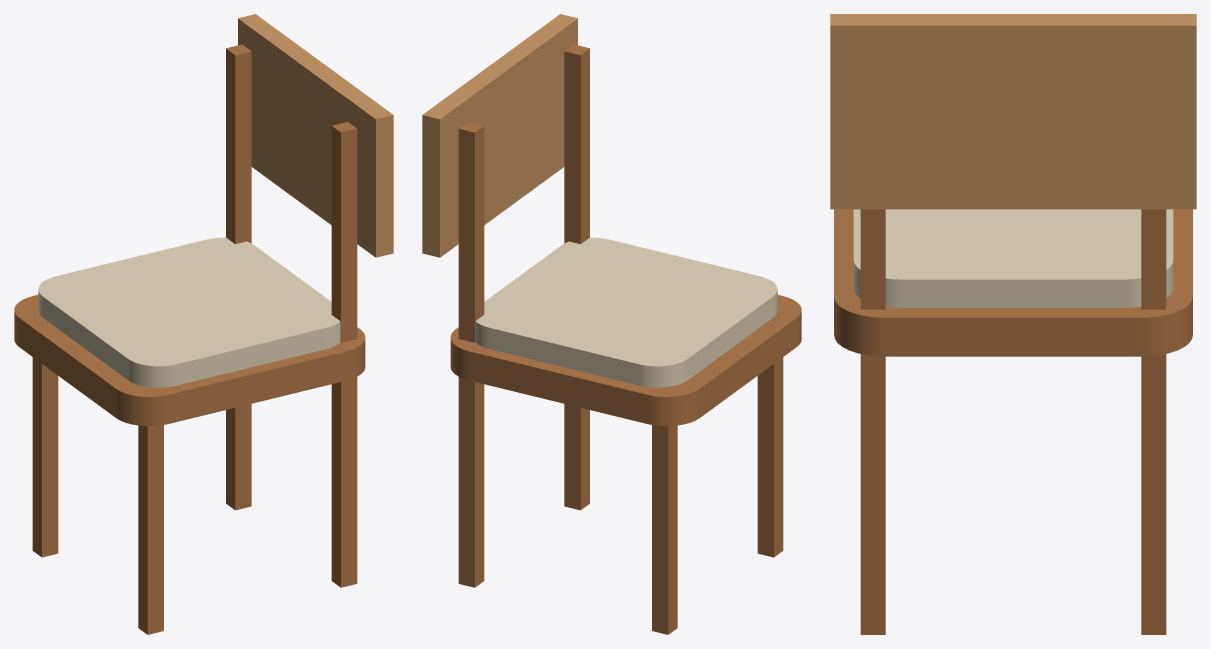
File: dining-chair-04.gltf
3 renders of one model, left to right at view 1: azimuth 30°, elevation 25°; view 2: azimuth 150°, elevation 25°; view 3: azimuth 270°, elevation 25°, orthographic. The views are drawn at different scales.
Visible parts, largest first — view 1: Dining chair 4 linen cushion, Dining chair 4 curved-look back, Dining chair 4 back leg (×2), Dining chair 4 oak seat, Dining chair 4 front leg (×2); view 2: Dining chair 4 linen cushion, Dining chair 4 curved-look back, Dining chair 4 back leg (×2), Dining chair 4 oak seat, Dining chair 4 front leg (×2); view 3: Dining chair 4 curved-look back, Dining chair 4 linen cushion, Dining chair 4 oak seat, Dining chair 4 back leg (×2).
Part boxes in pixels (box(x1,y1,x2,y2)): Dining chair 4 linen cushion: box(38, 237, 340, 387); Dining chair 4 curved-look back: box(238, 14, 393, 257); Dining chair 4 back leg (×2): box(226, 44, 357, 587); Dining chair 4 oak seat: box(14, 295, 365, 426); Dining chair 4 front leg (×2): box(32, 357, 163, 634); Dining chair 4 linen cushion: box(475, 237, 777, 387); Dining chair 4 curved-look back: box(422, 14, 577, 257); Dining chair 4 back leg (×2): box(458, 44, 589, 587); Dining chair 4 oak seat: box(450, 295, 801, 426); Dining chair 4 front leg (×2): box(652, 357, 783, 634); Dining chair 4 curved-look back: box(830, 14, 1196, 209); Dining chair 4 linen cushion: box(853, 209, 1173, 307); Dining chair 4 oak seat: box(834, 209, 1192, 356); Dining chair 4 back leg (×2): box(860, 209, 1166, 634).
Size of the model in its own units: 0.505 by 0.885 by 0.47.
